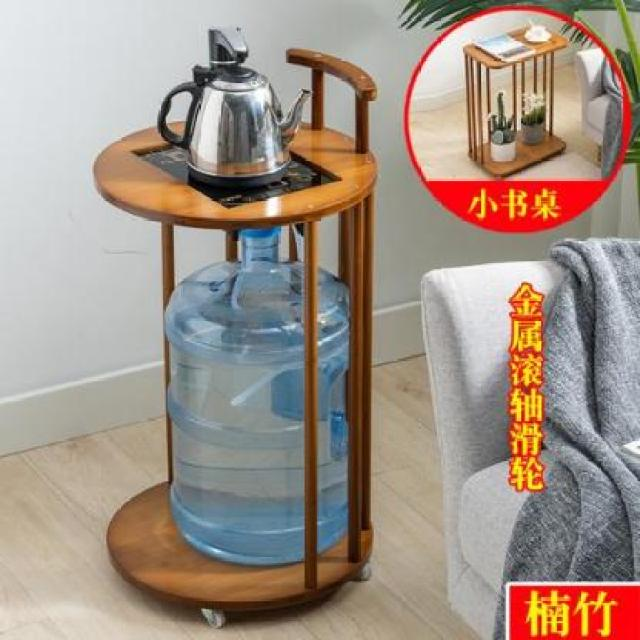coolerbottle: (163, 228, 354, 569)
